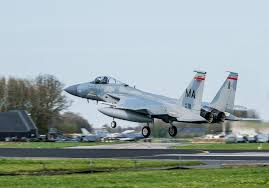fighter: (58, 69, 262, 138)
